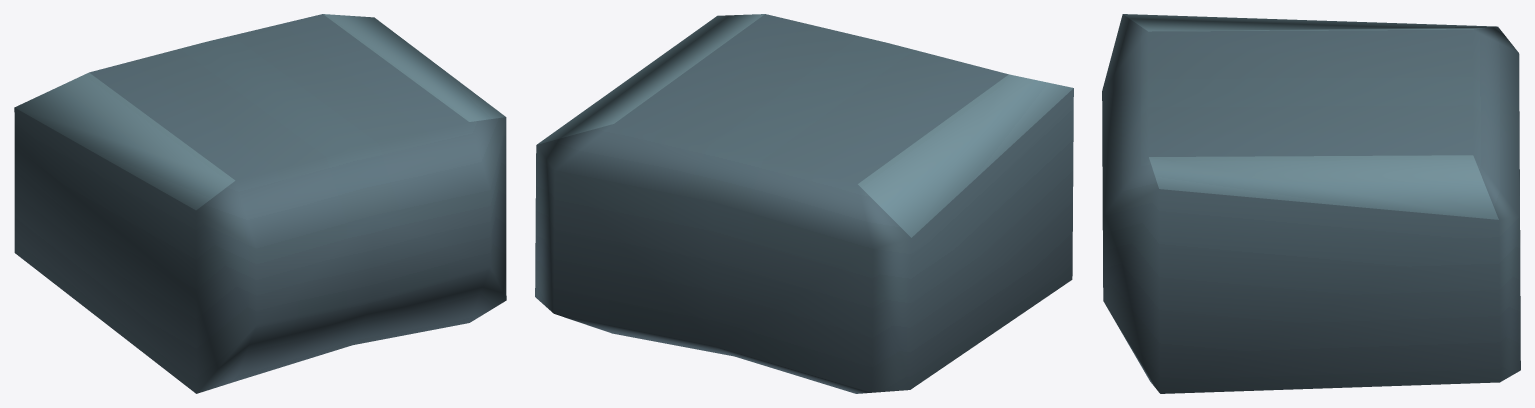
File: Modular_Dungeon_Loose_Brick4.fbx
3 views of the same model, side by side, from view 1: azimuth 30°, elevation 25°; view 2: azimuth 150°, elevation 25°; view 3: azimuth 270°, elevation 25° (orthographic). The views are drawn at different scales.
Visible parts, largest first — view 1: Loose_Brick4; view 2: Loose_Brick4; view 3: Loose_Brick4.
Boxes of the visible parts, x1,y1,x2,y2 form: Loose_Brick4: [14, 14, 506, 393]; Loose_Brick4: [535, 14, 1073, 393]; Loose_Brick4: [1102, 14, 1520, 393].
Bounding box in the file's own units: 1.42 × 0.7708 × 1.29.
1 material, 1 textured.
